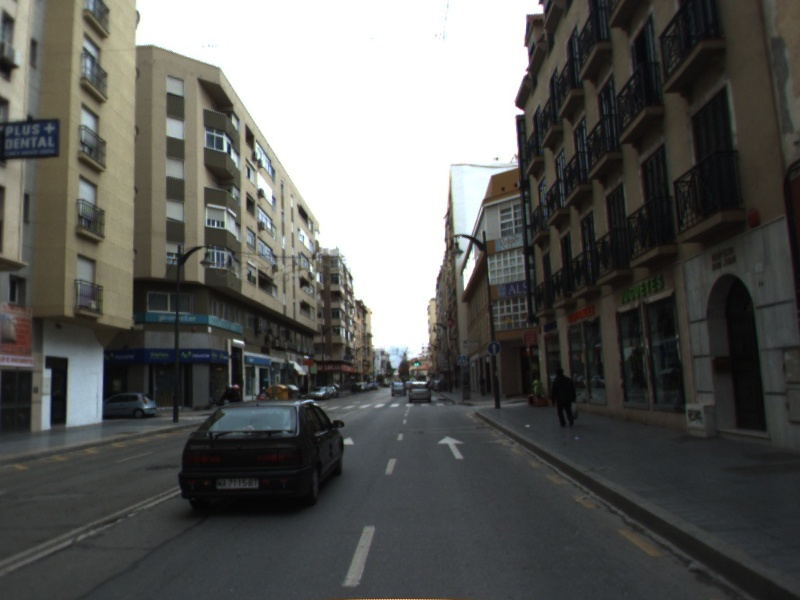STRAIGHT: (435, 434, 467, 461)
